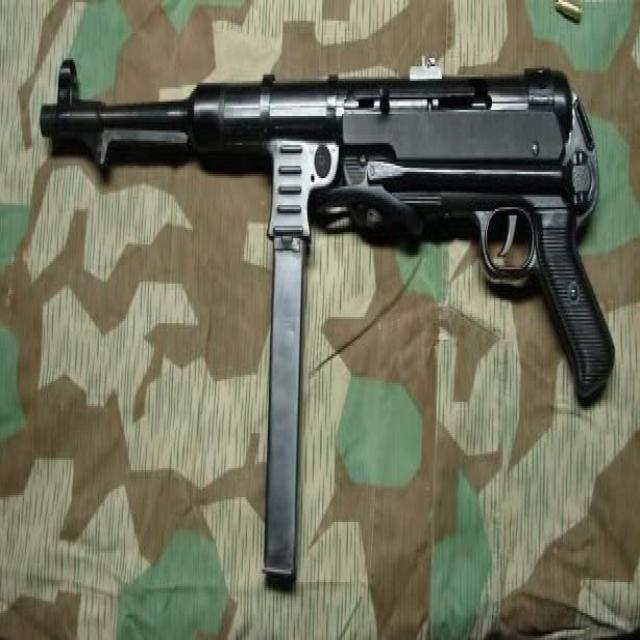SMG: (40, 60, 615, 594)
